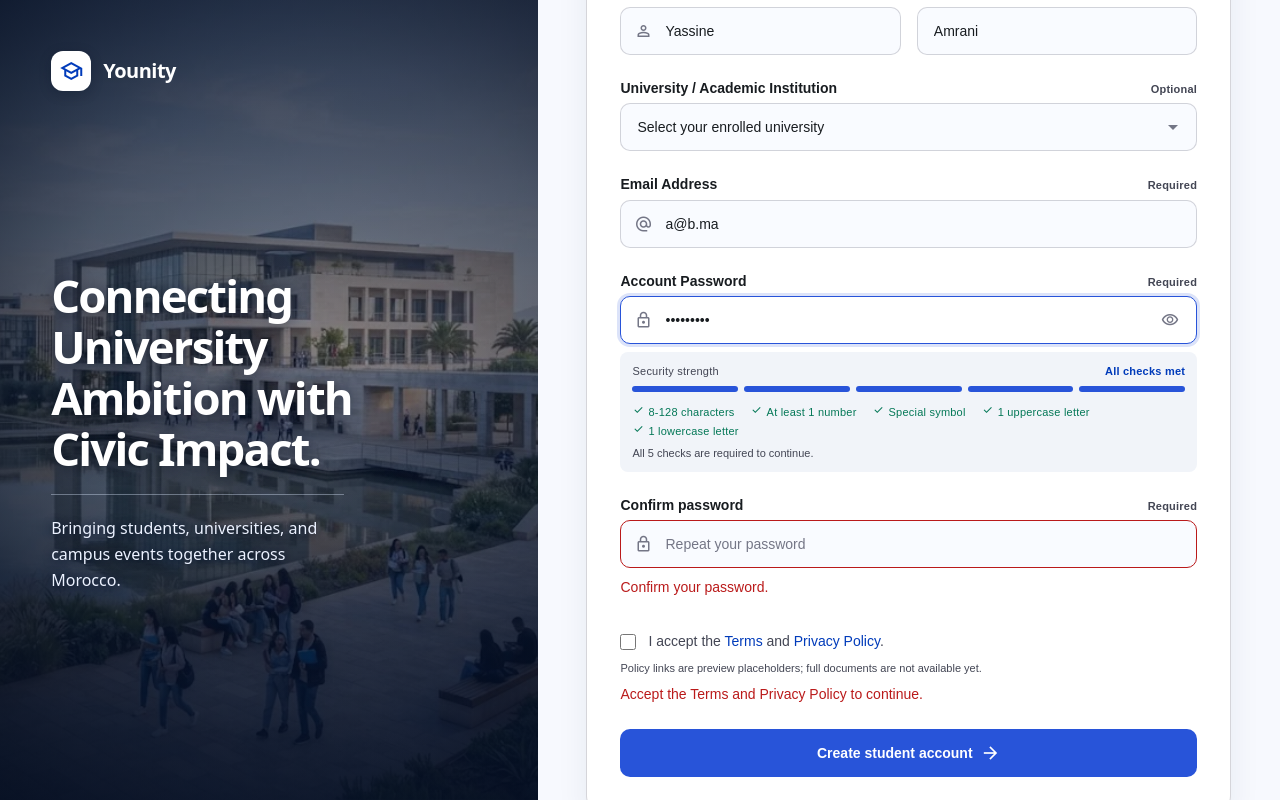
local registration › focuses validation errors and preserves student details after a failed submission
Earlier steps of the test are not shown.
(page scrolled)
Type "Abcdefg1!" into the password field labelled "Confirm password".
click(909, 544); type("Abcdefg1!")  # box 620,520 -> 1197,568
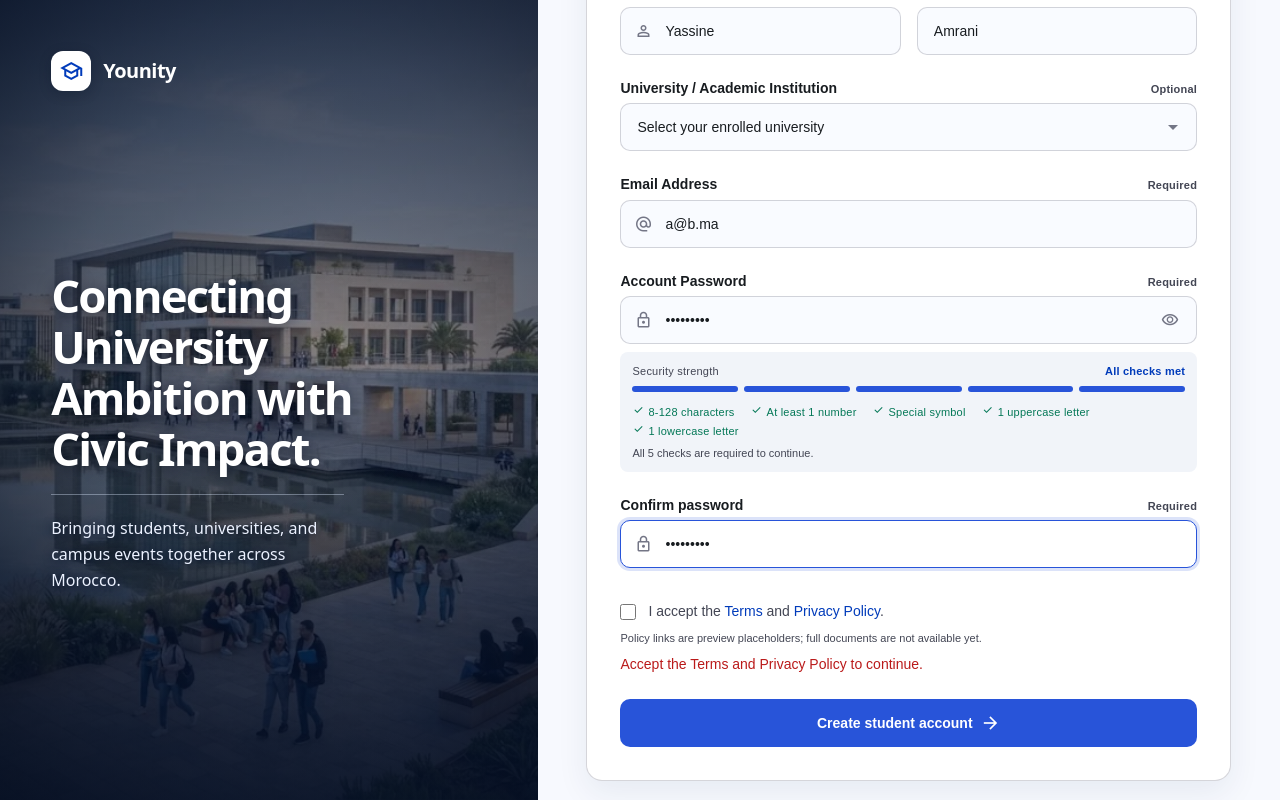
Select "Other" in the dropdown labelled "University / Academic Institution" at (909, 127), box 620,103 -> 1197,151
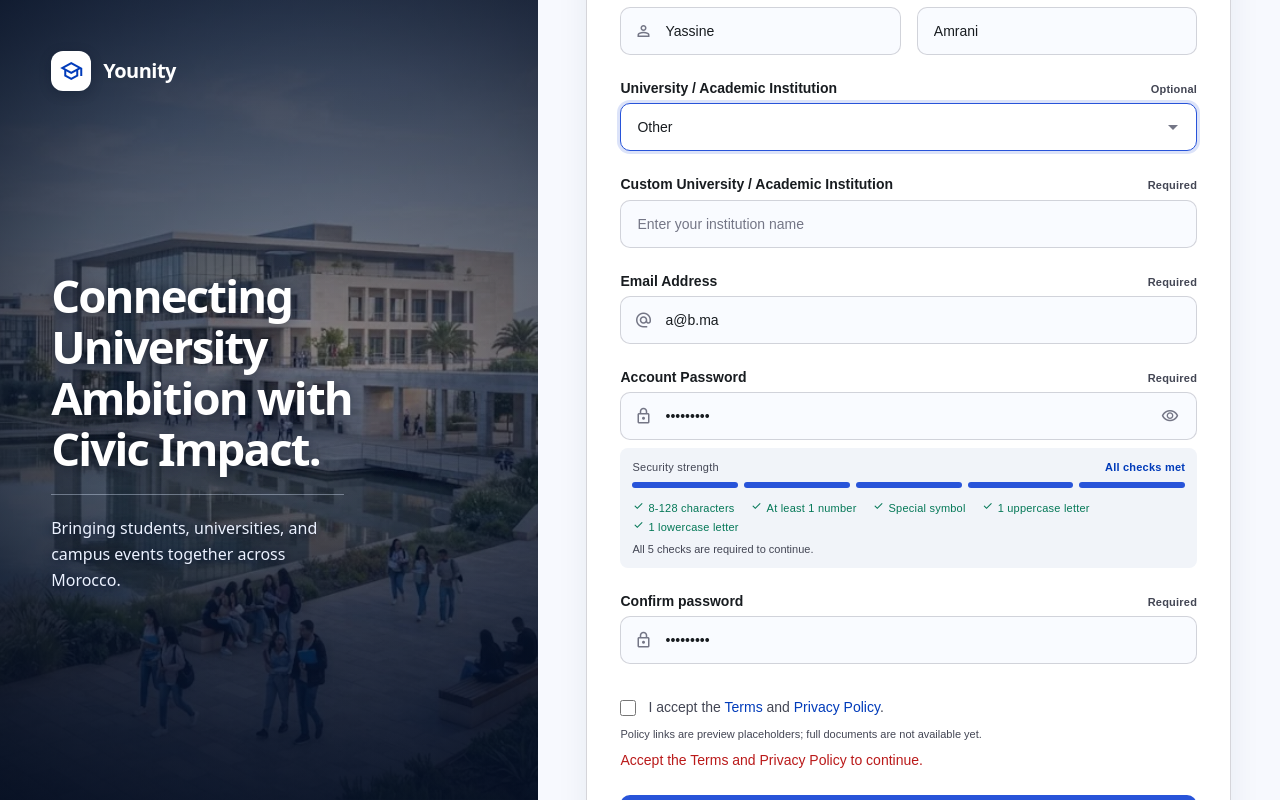
Click the checkbox.
click(628, 708)  # box 620,700 -> 636,716
(page scrolled)
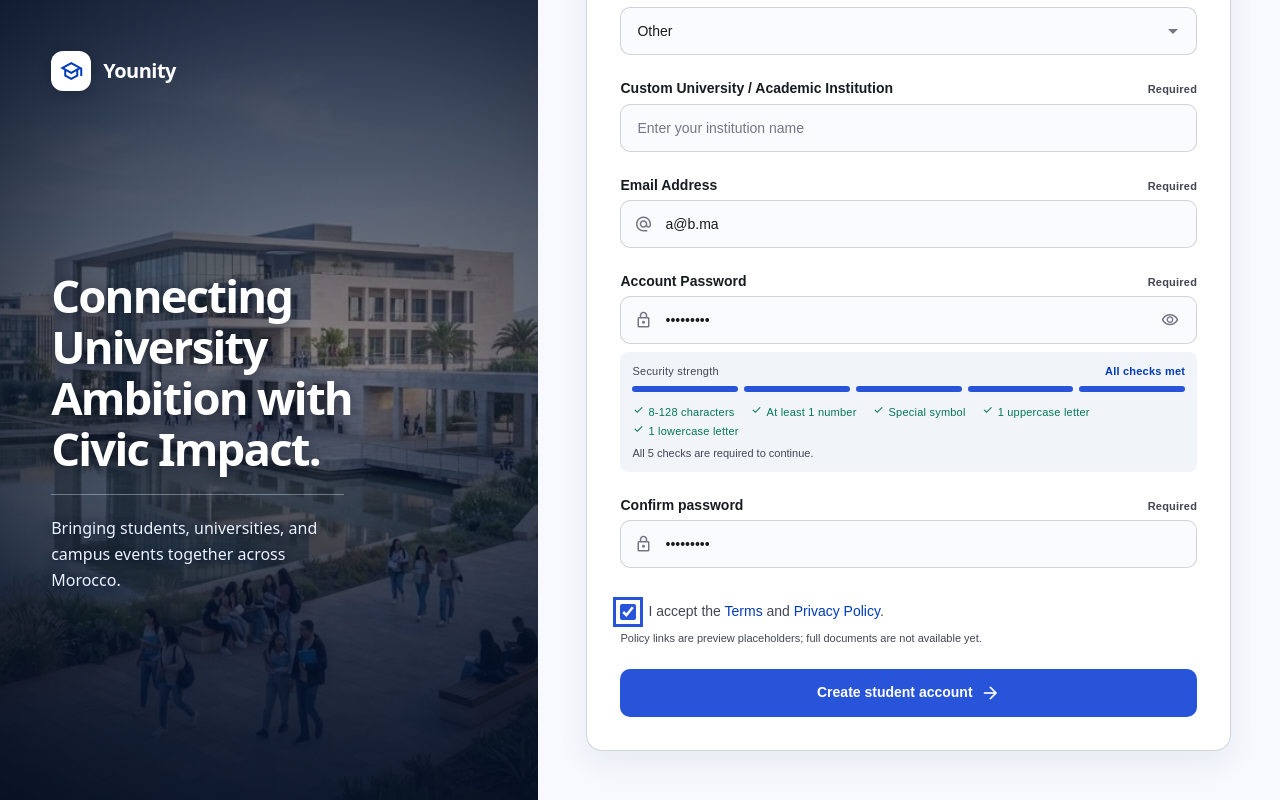
Click the button "Create student account".
click(909, 693)  # box 620,669 -> 1197,717
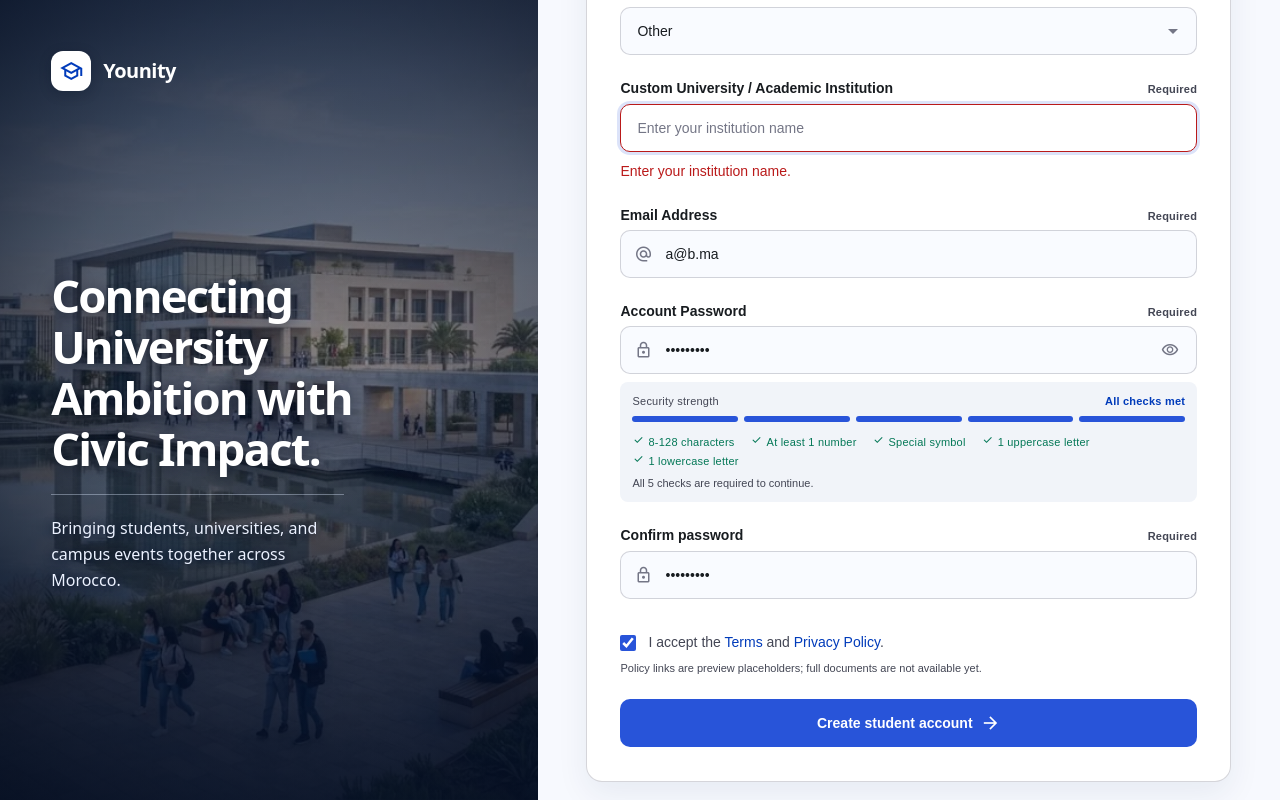
Result: the text "Enter your institution name." is shown at 620,163 -> 791,179
Type "Custom Institute" into the field labelled "Custom University / Academic Institution".
click(909, 128); type("Custom Institute")  # box 620,104 -> 1197,152
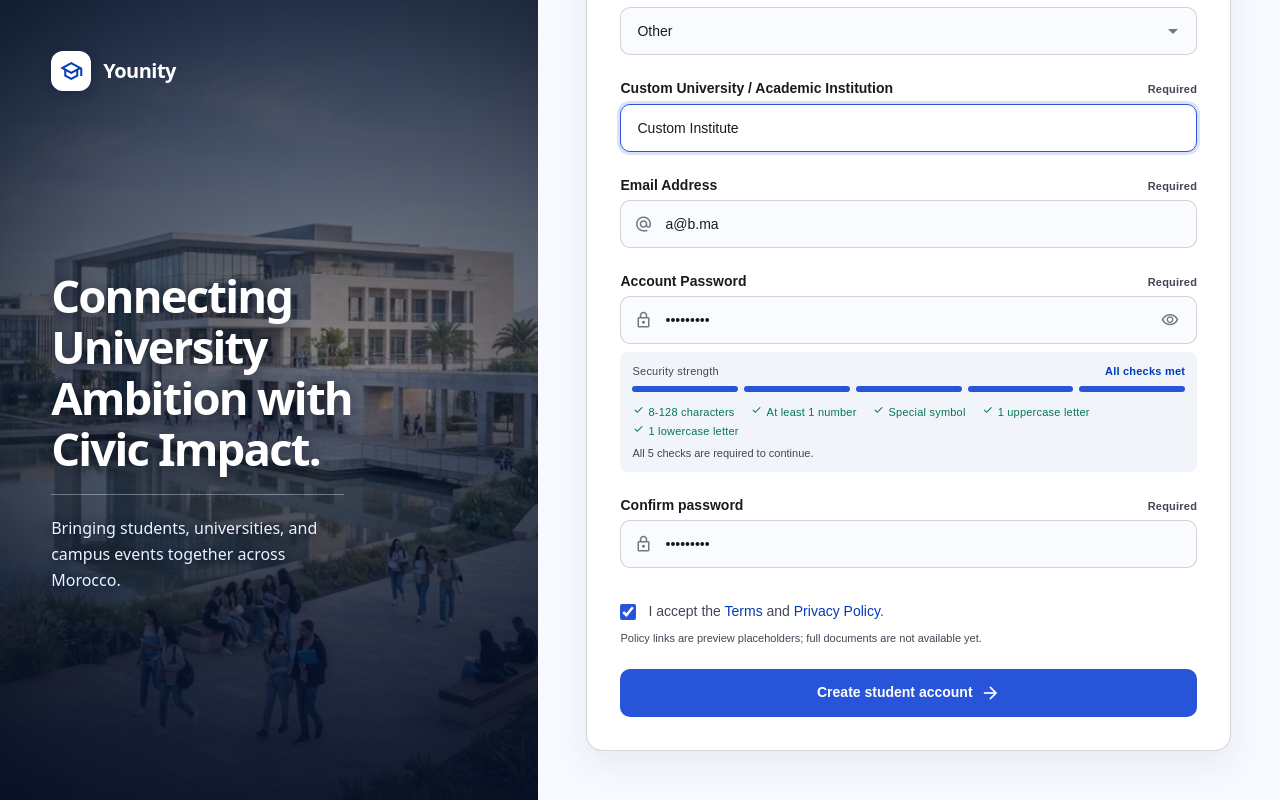
Click the button "Create student account".
click(909, 693)  # box 620,669 -> 1197,717
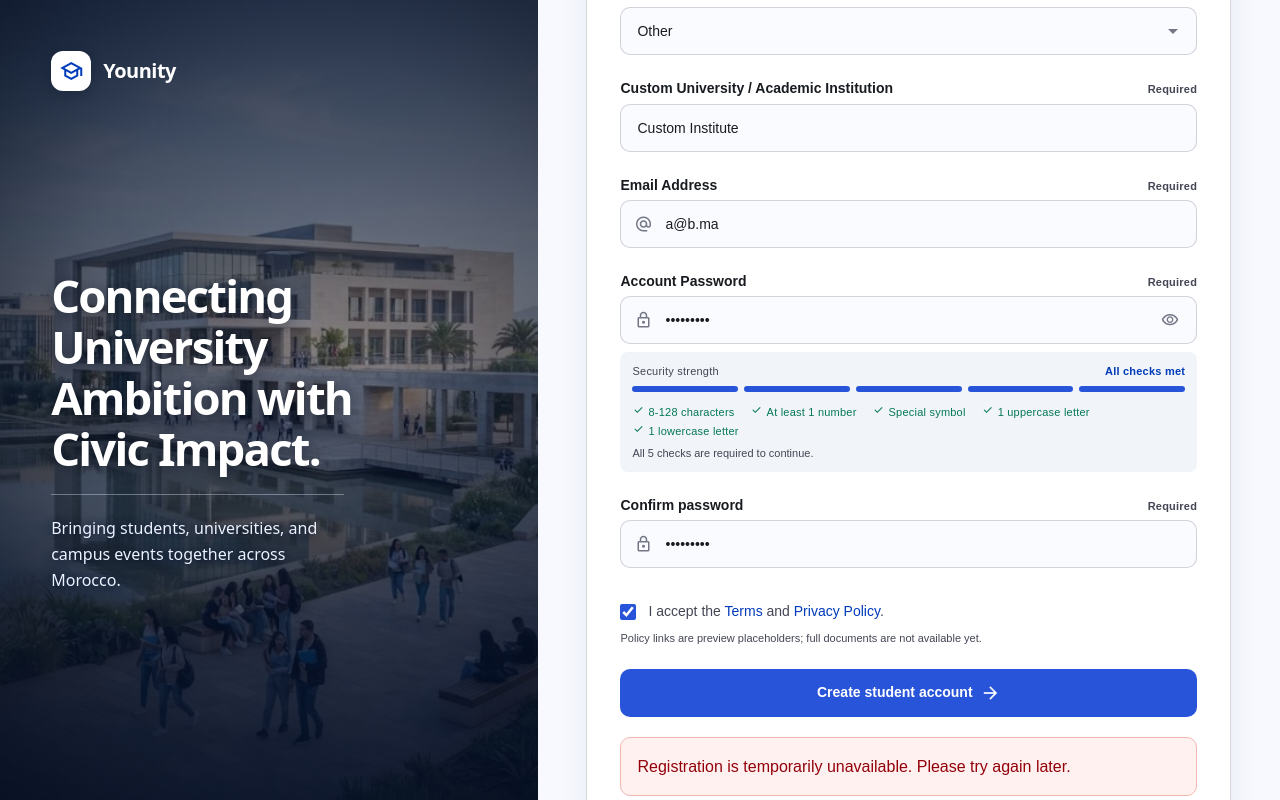
Result: the message "Registration is temporarily unavailable. Please try again later." is shown at 620,737 -> 1197,796
